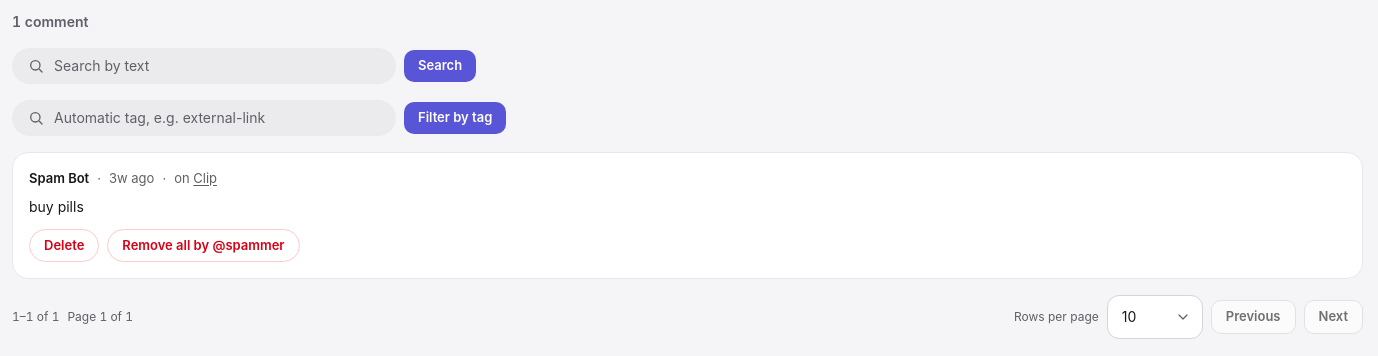
Test: AdminCommentsView bulk removal › cancel leaves everything untouched
The width and height of the screenshot is (1378, 356).
What coordinates should you click on to do the following:
click the button with aria-label "Remove all comments by @spammer"
I would click on:
 (203, 245)
Its box is x1=107 y1=228 x2=300 y2=262.
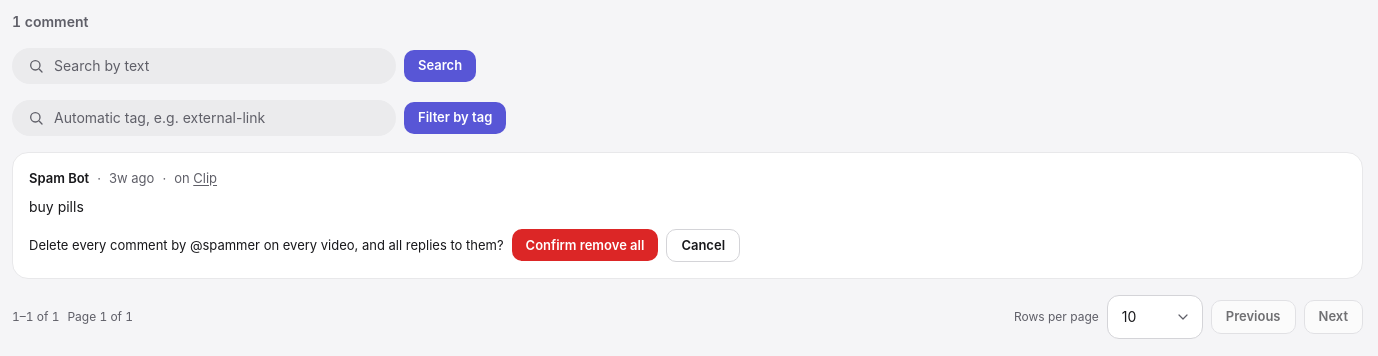
What coordinates should you click on to do the following:
click the button "Cancel"
I would click on:
 (703, 245)
Its box is x1=666 y1=228 x2=740 y2=262.
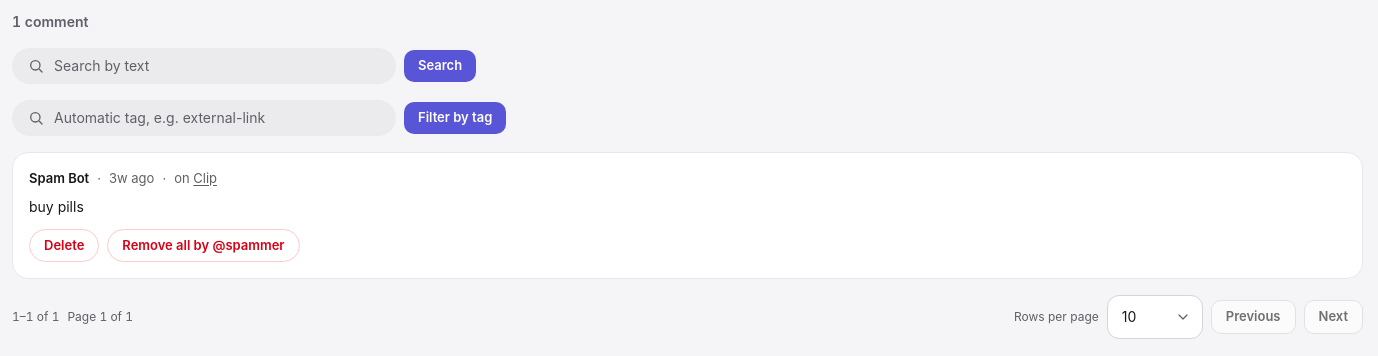
Expected: the button "Confirm remove all" is gone
